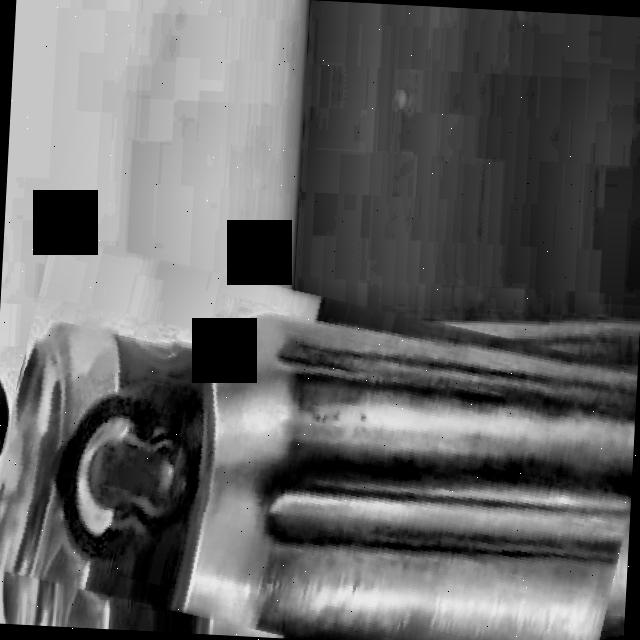bottle: (0, 312, 638, 640)
